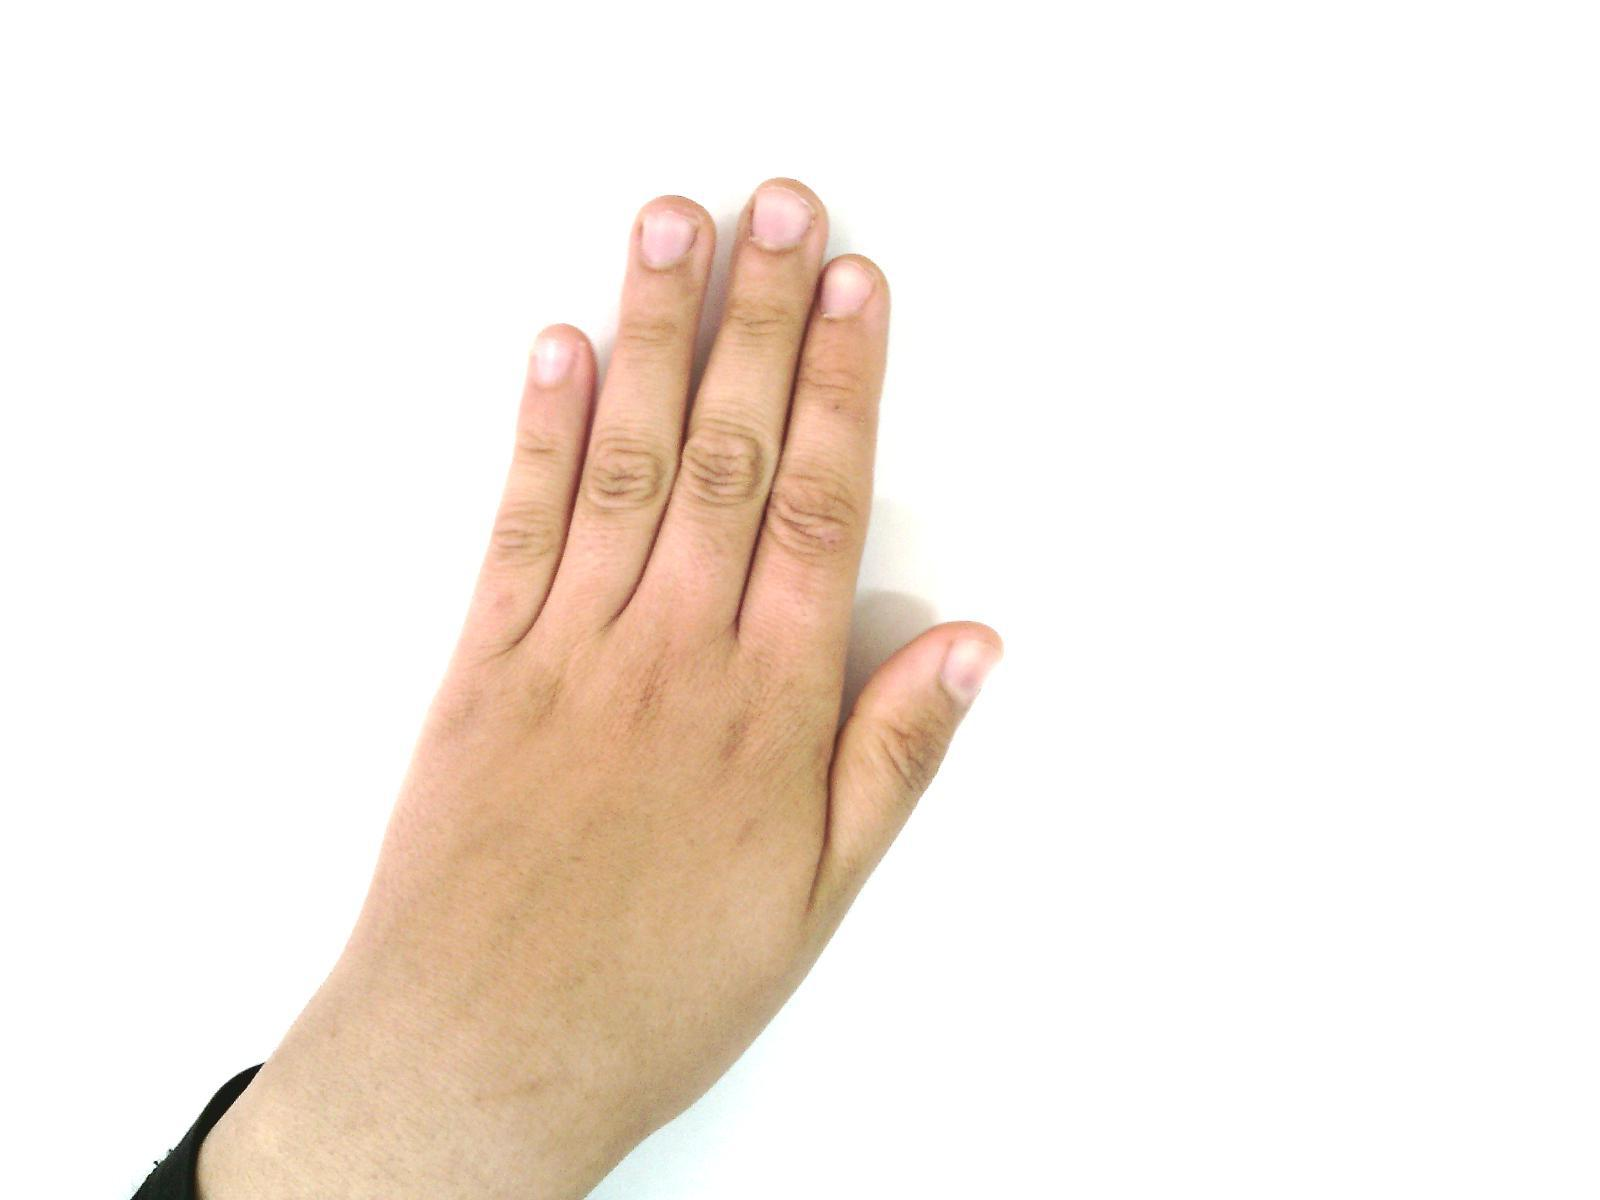hand: (386, 173, 1010, 1084)
